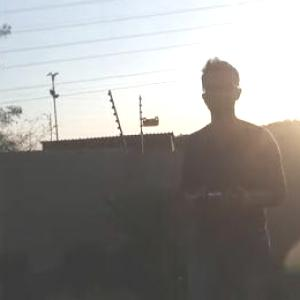follow: (173, 52, 295, 299)
